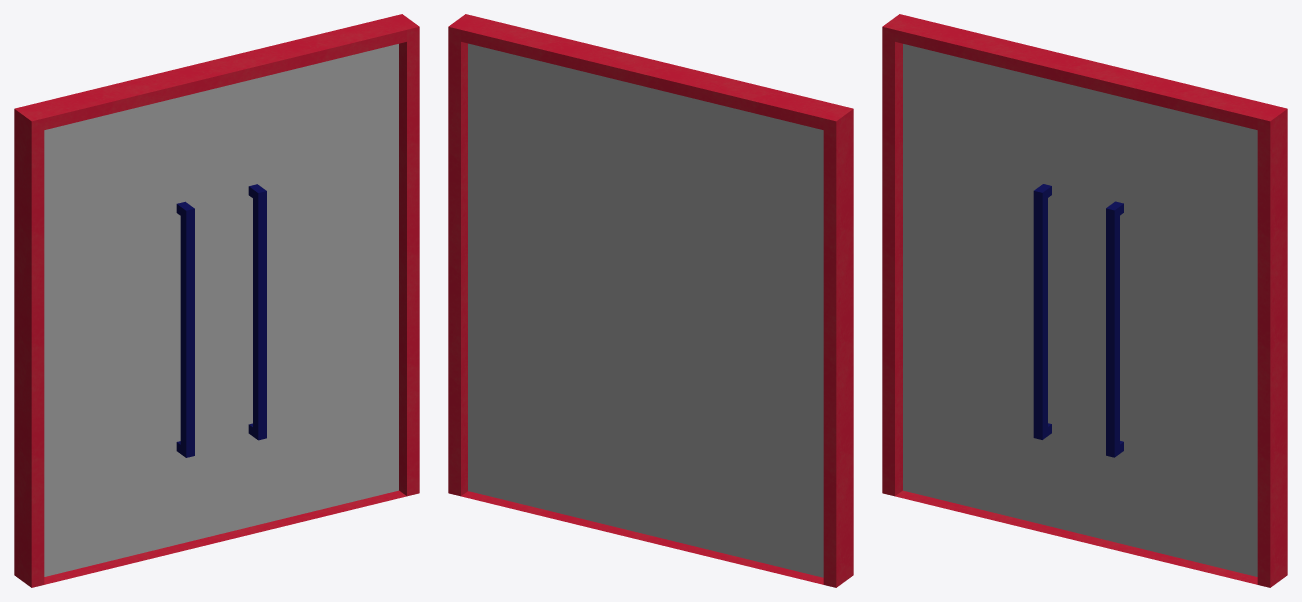
Rendered from Glass_Door_Office.fbx.
3 views of the same model, side by side, from view 1: azimuth 30°, elevation 25°; view 2: azimuth 150°, elevation 25°; view 3: azimuth 330°, elevation 25° (orthographic).
Parts seen in each view (by area): view 1: Door_R, Door_L, Glass_Door, Door_Handle_L, Door_Handle_R; view 2: Door_R, Door_L, Glass_Door; view 3: Door_L, Door_R, Glass_Door, Door_Handle_L, Door_Handle_R.
Part boxes in pixels (x1,y1,x2,y2): Door_R: [217, 44, 398, 534]; Door_L: [44, 88, 217, 576]; Glass_Door: [14, 14, 419, 587]; Door_Handle_L: [176, 201, 194, 457]; Door_Handle_R: [248, 184, 266, 440]; Door_R: [468, 43, 649, 535]; Door_L: [649, 88, 823, 577]; Glass_Door: [448, 14, 853, 587]; Door_L: [903, 44, 1084, 534]; Door_R: [1084, 88, 1257, 576]; Glass_Door: [882, 14, 1287, 587]; Door_Handle_L: [1033, 184, 1051, 439]; Door_Handle_R: [1106, 201, 1123, 457].
Bounding box in the file's own units: 183 × 211 × 15.46.
